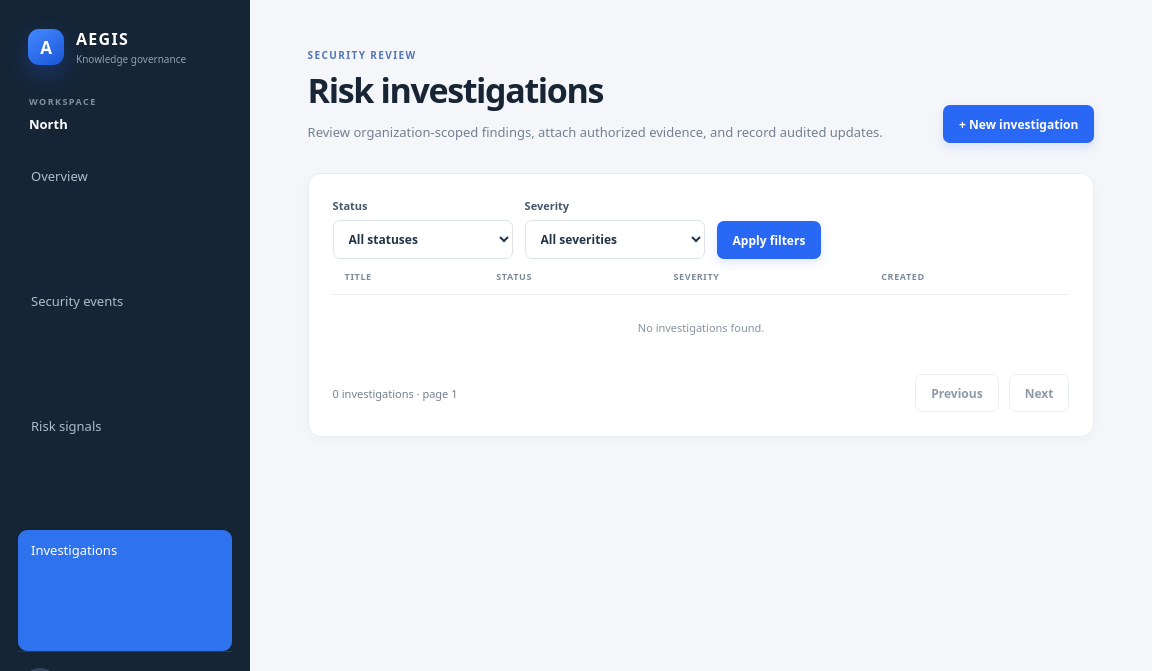
Test case: risk investigation workflow › creates an investigation with a selected authorized security-event reference
Click the button "+ New investigation".
click(1019, 124)  # box left=943, top=105, right=1094, bottom=143
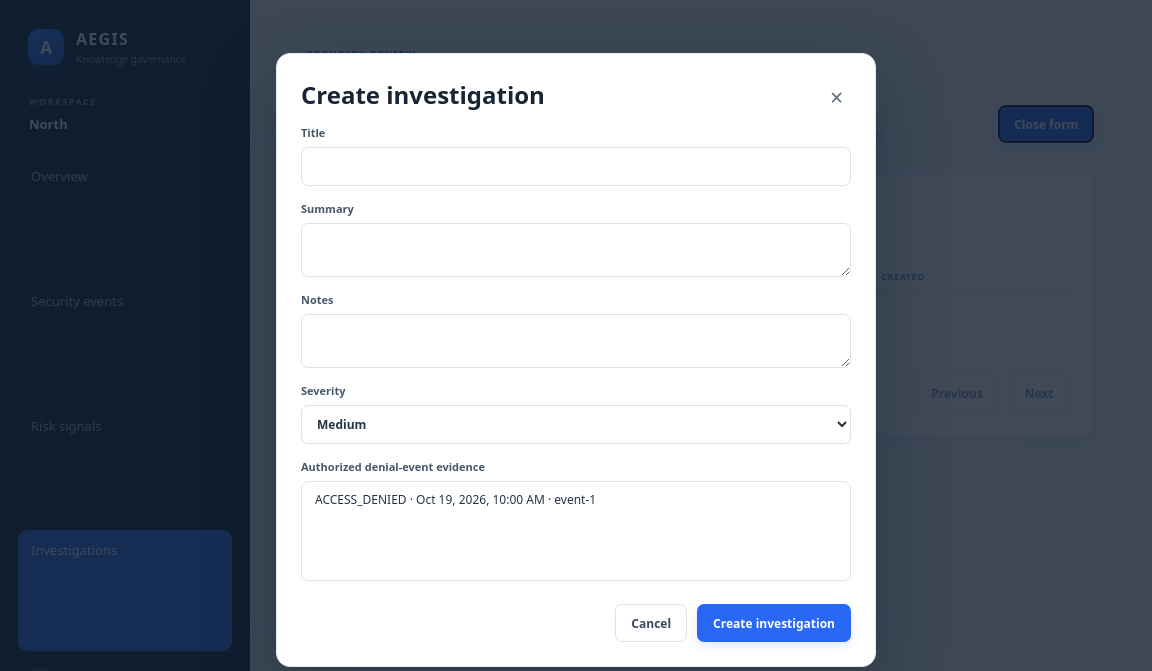
Now the dialog "Create investigation" is shown, box left=276, top=53, right=876, bottom=667
Type "Denied access review" into the field labelled "Title".
click(576, 166); type("Denied access review")  # box left=301, top=147, right=851, bottom=186
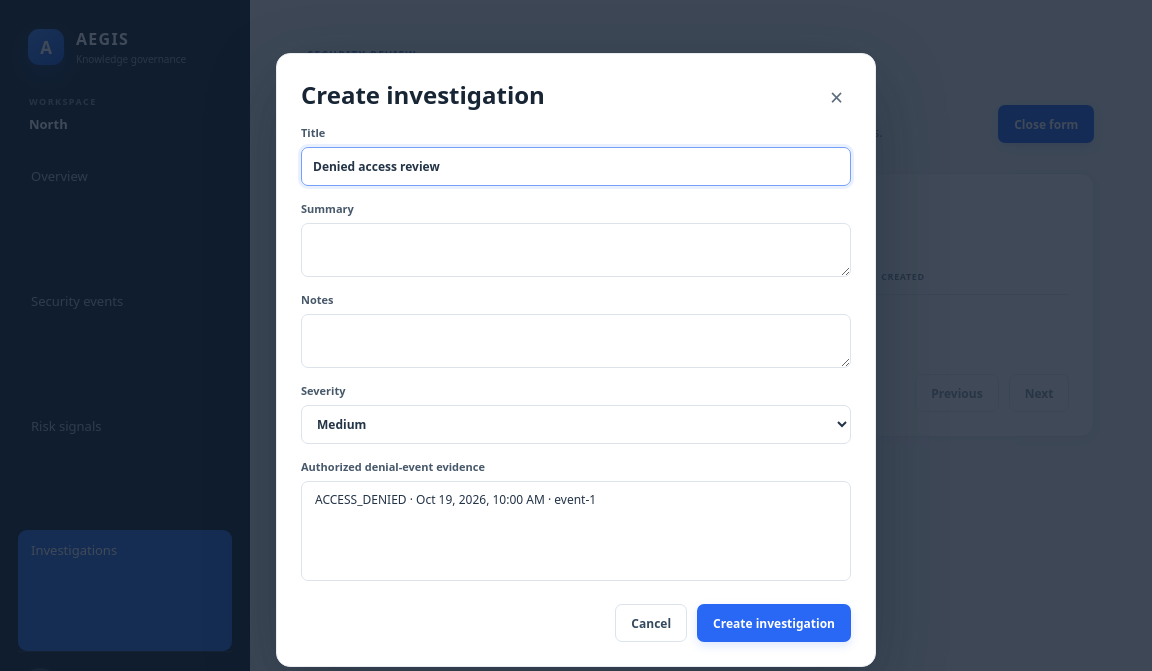
Select "ACCESS_DENIED · Oct 19, 2026, 10:00 AM · event-1" in the dropdown labelled "Authorized denial-event evidence" at (576, 531), box left=301, top=481, right=851, bottom=581
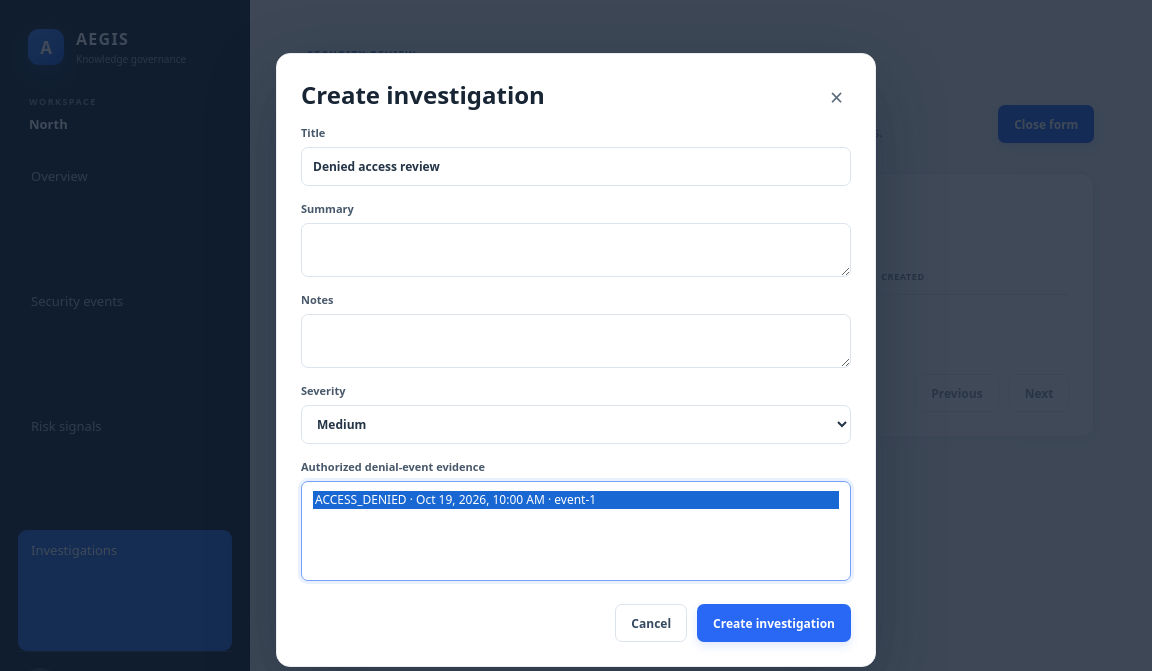
Click the button "Create investigation".
click(774, 623)  # box left=697, top=604, right=851, bottom=642
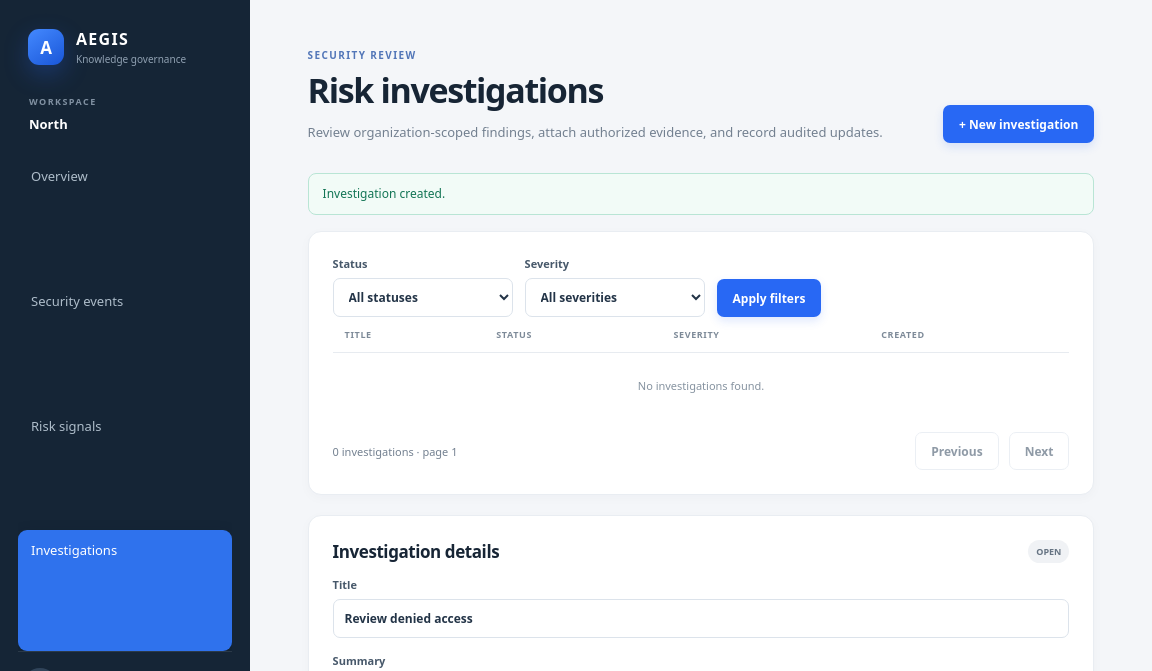
Now the message reads "Investigation created.", box left=323, top=185, right=445, bottom=202
